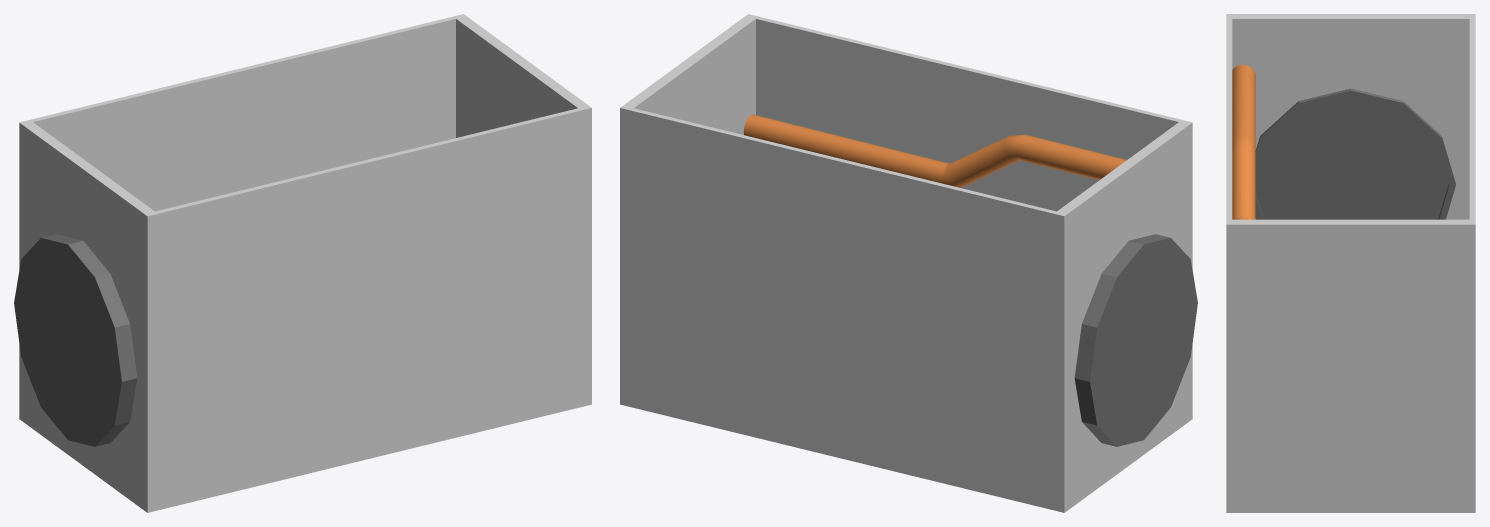
File: waking-hall.glb
3 renders of one model, left to right at view 1: azimuth 30°, elevation 25°; view 2: azimuth 150°, elevation 25°; view 3: azimuth 270°, elevation 25°, orthographic. The views are drawn at different scales.
Visible parts, largest first — view 1: walls, clock; view 2: walls, clock, pipe; view 3: walls, clock, pipe.
Part boxes in pixels (box(x1,y1,x2,y2)): walls: box(19, 14, 591, 512); clock: box(14, 234, 137, 446); walls: box(620, 14, 1192, 512); clock: box(1074, 234, 1197, 446); pipe: box(743, 114, 1126, 187); walls: box(1226, 14, 1475, 512); clock: box(1255, 88, 1455, 219); pipe: box(1232, 64, 1255, 219).
Bounding box in the file's own units: 4.14 × 2.55 × 2.
